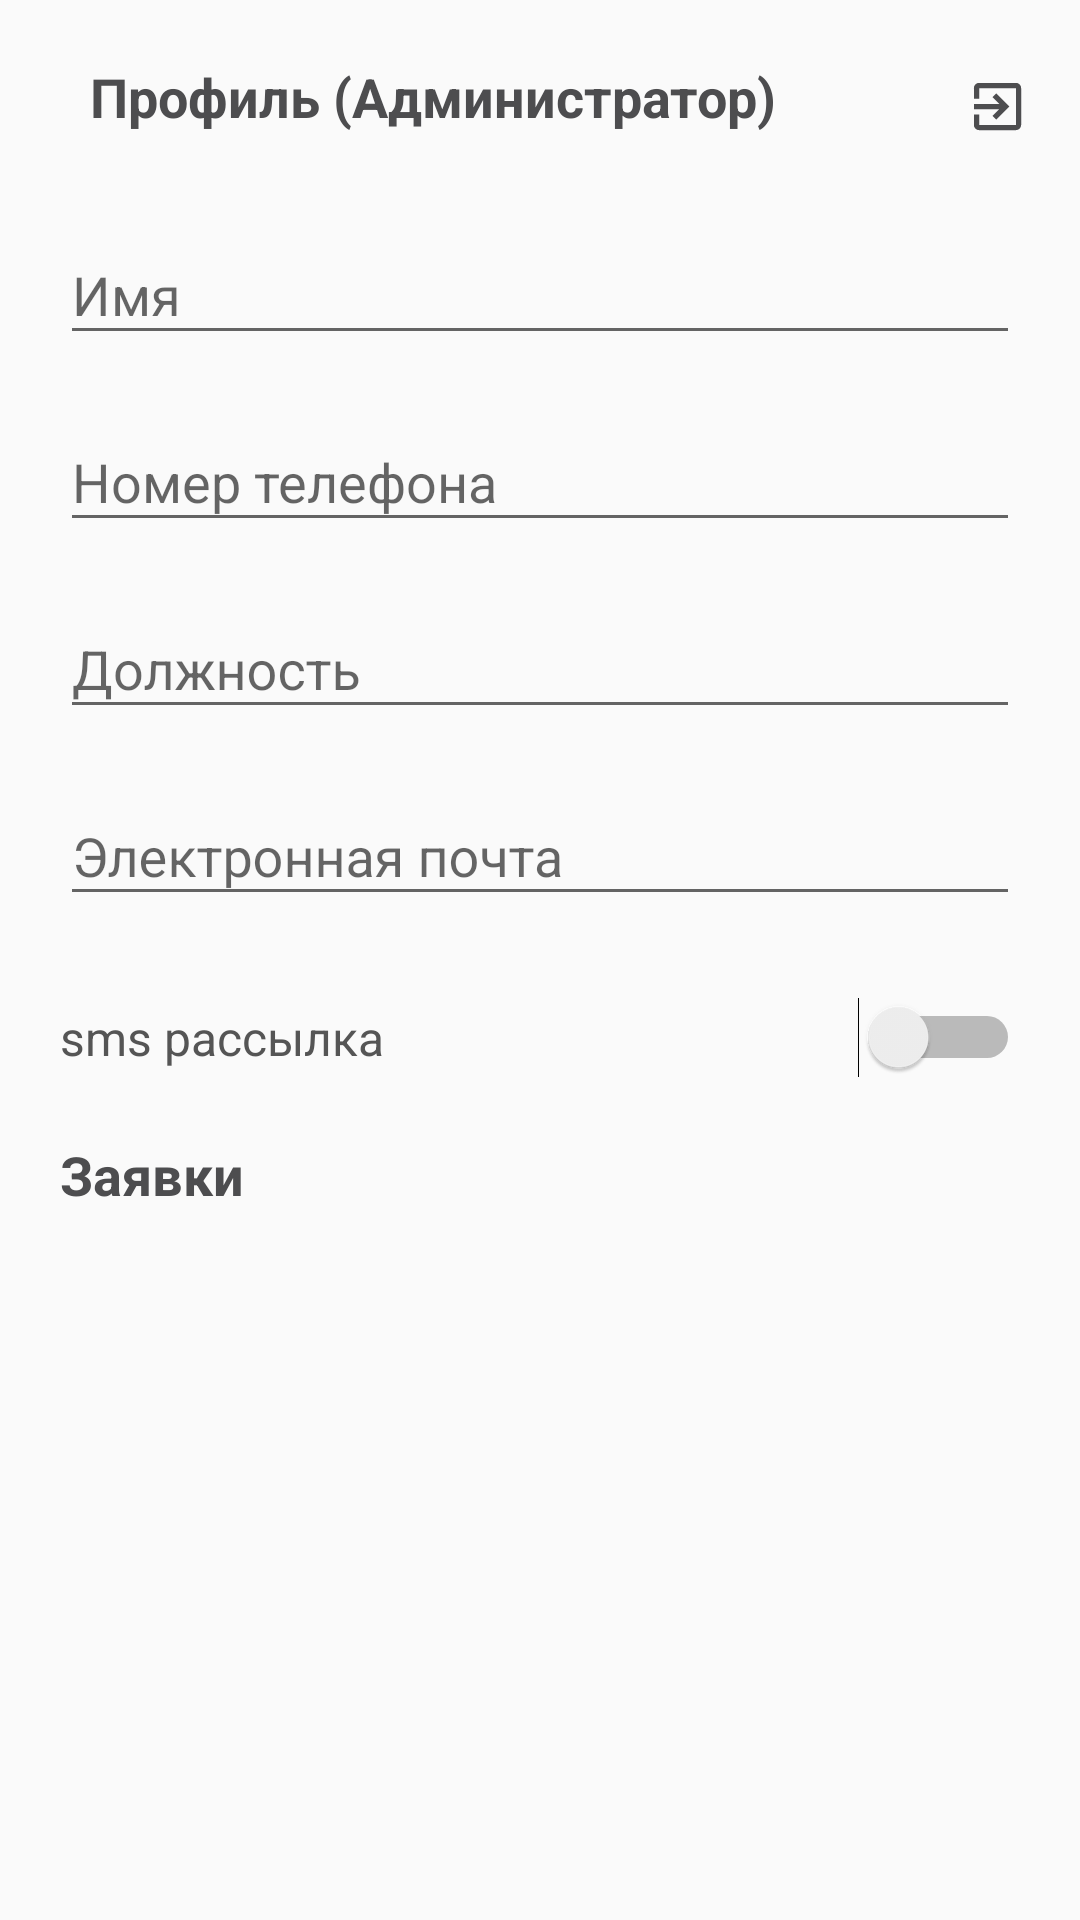

Point at icon controls on the screen. Image size 1080px×1920px, points as (x,y).
exit to app: (998,107)
